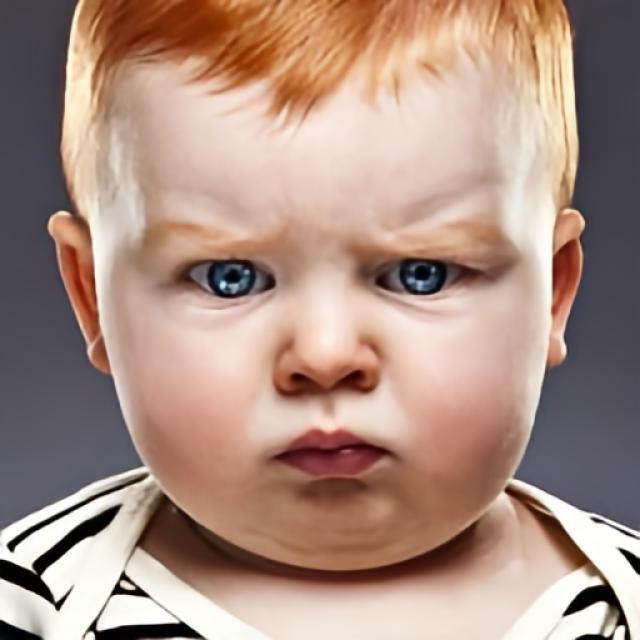anger: (124, 56, 538, 554)
